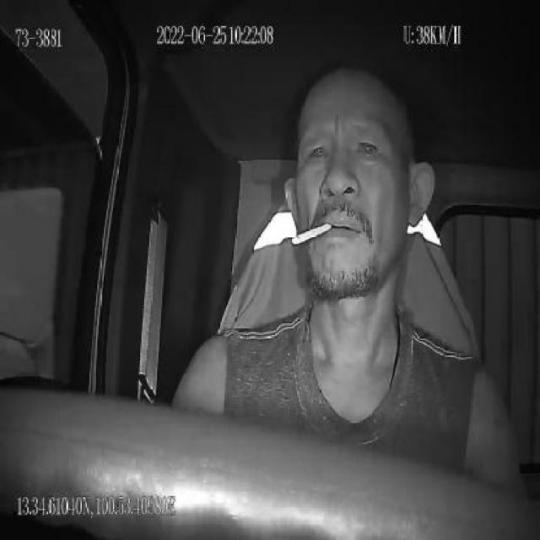smoking: (291, 223, 332, 248)
